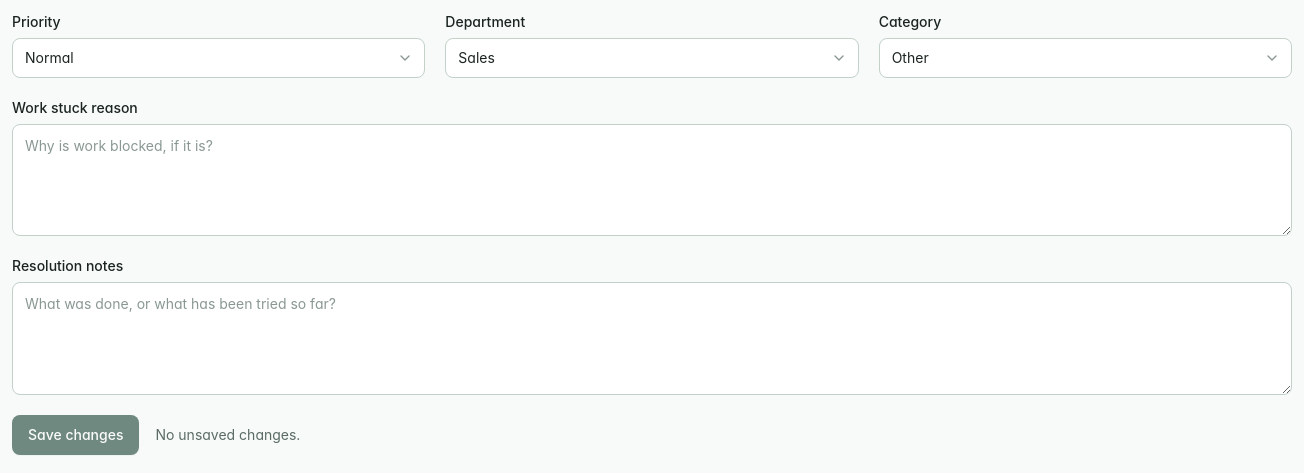
Scenario: EditComplaintForm › disables Save until something changes
This screenshot has width=1304, height=473.
Expected: the button "Save changes" is disabled, [12,415,140,455]
Type "Waiting for parts" into the text box labelled "Work stuck reason" at (652, 180), box [12,124,1292,236]
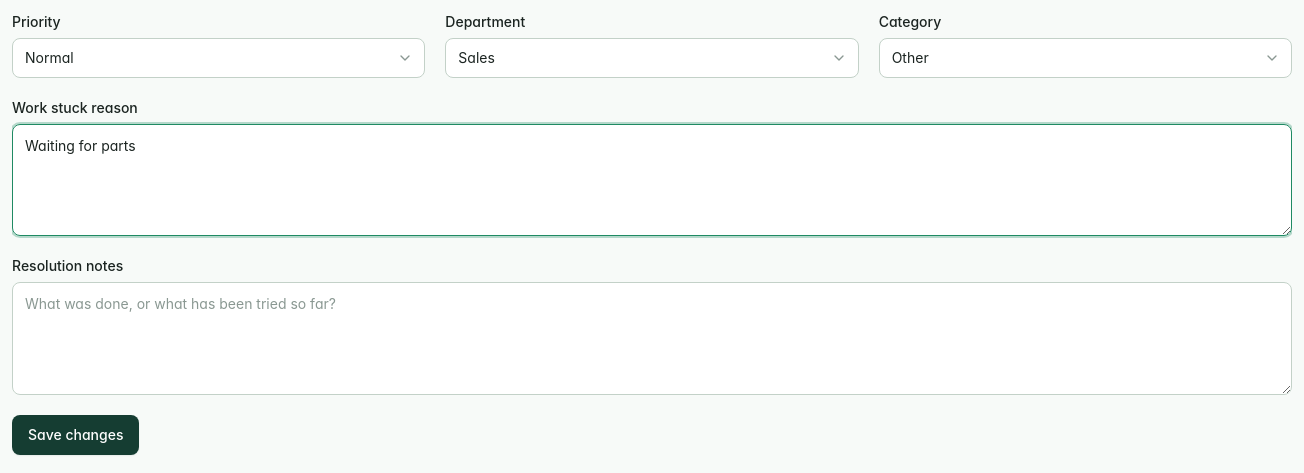
Expected: the button "Save changes" is enabled, [12,415,140,455]
